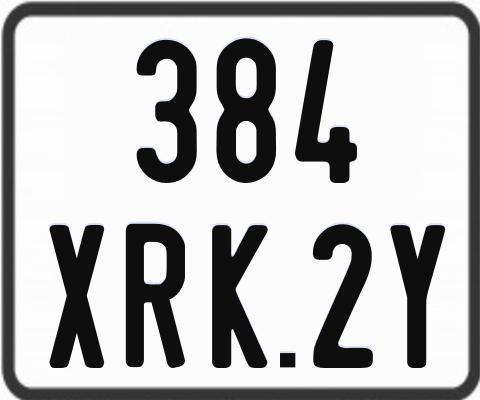2: (312, 221, 373, 366)
3: (137, 39, 199, 186)
4: (294, 39, 357, 182)
8: (216, 38, 277, 185)
K: (209, 224, 271, 369)
R: (126, 221, 188, 367)
X: (50, 223, 109, 367)
Y: (391, 225, 446, 374)
